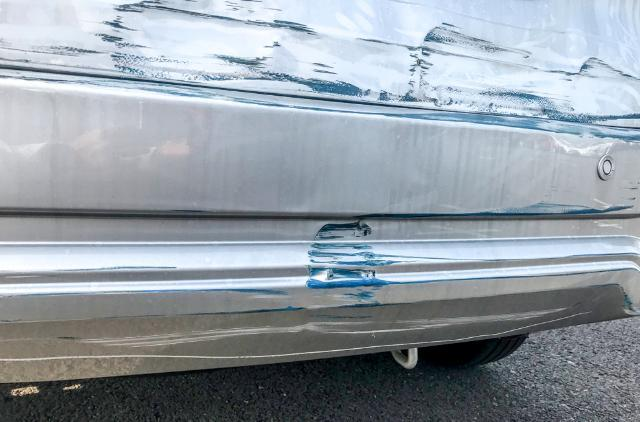Bumper: (0, 0, 640, 362)
